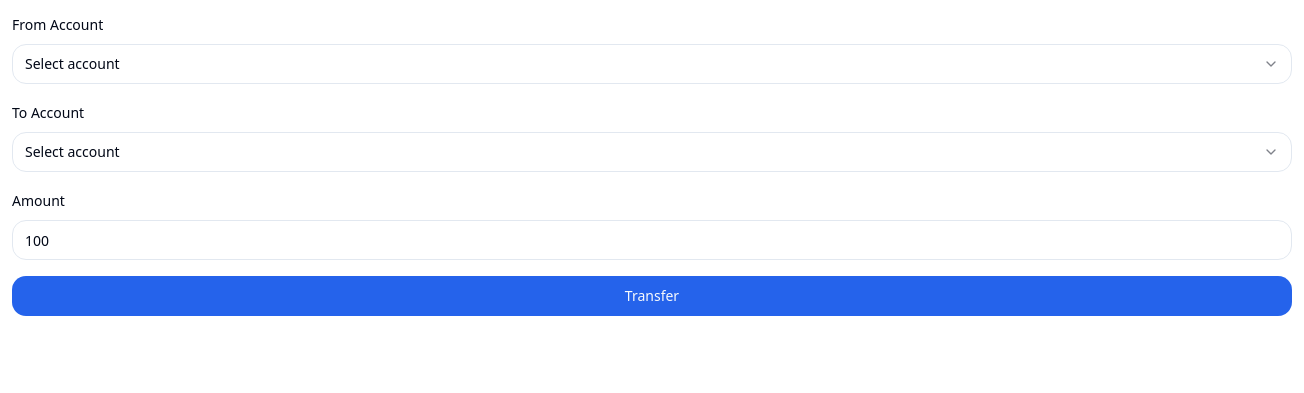
TransferFundsForm › displays error message on amount exceeding balance
Replace the text in the number field labelled "Amount" with "300". click: coordinates (652, 240)
box: [12,220,1292,260]
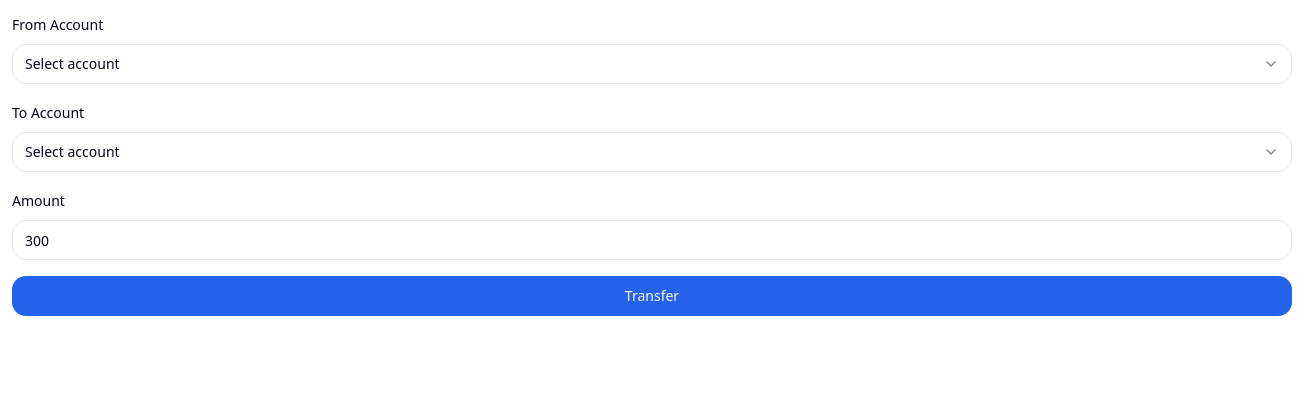
Click the dropdown with test id "from-account-select-trigger". click: coordinates (72, 64)
box: [12,44,1292,84]
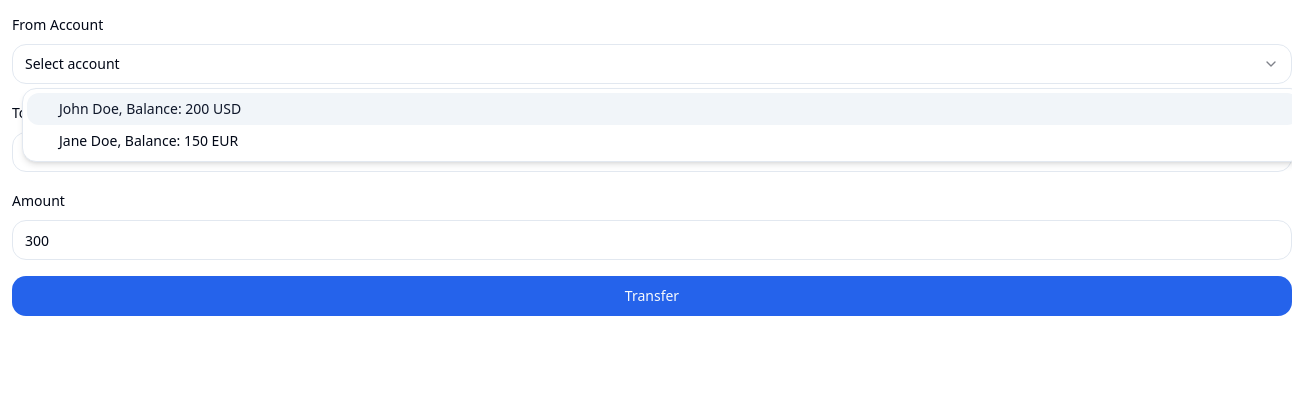
Click the option "John Doe, Balance: 200 USD". click: coordinates (150, 108)
box: [27,93,1292,125]
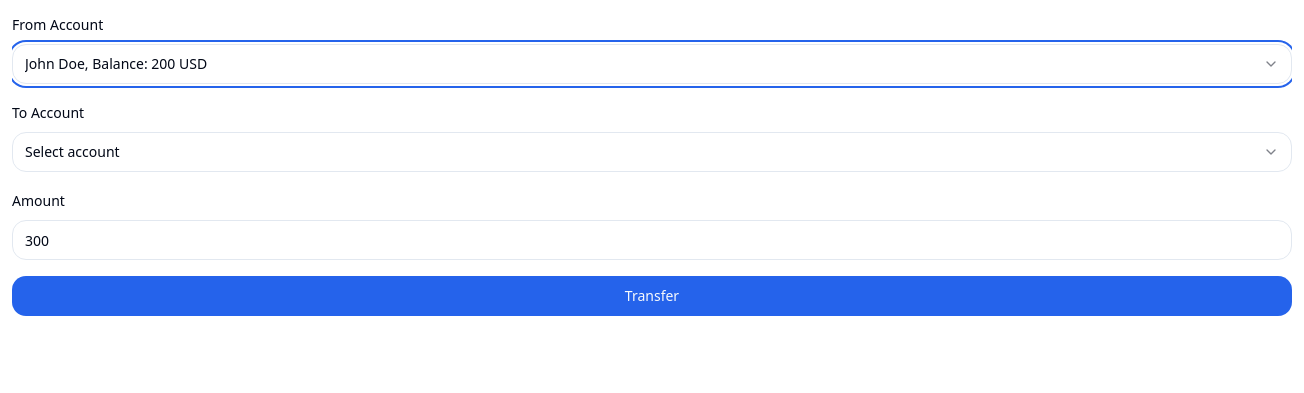
Click the dropdown with test id "to-account-select-trigger". click: coordinates (72, 152)
box: [12,132,1292,172]
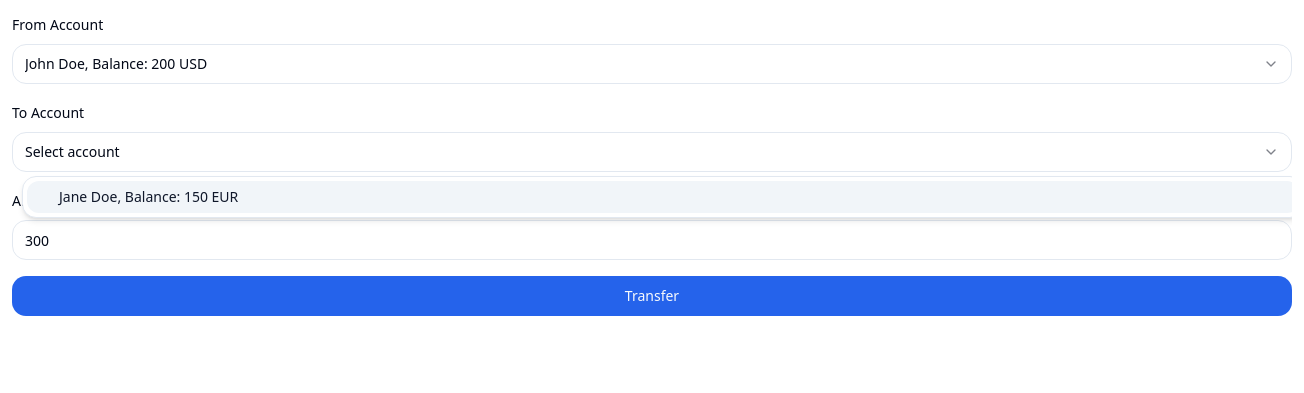
Click the option "Jane Doe, Balance: 150 EUR". click: coordinates (149, 196)
box: [27,181,1292,213]
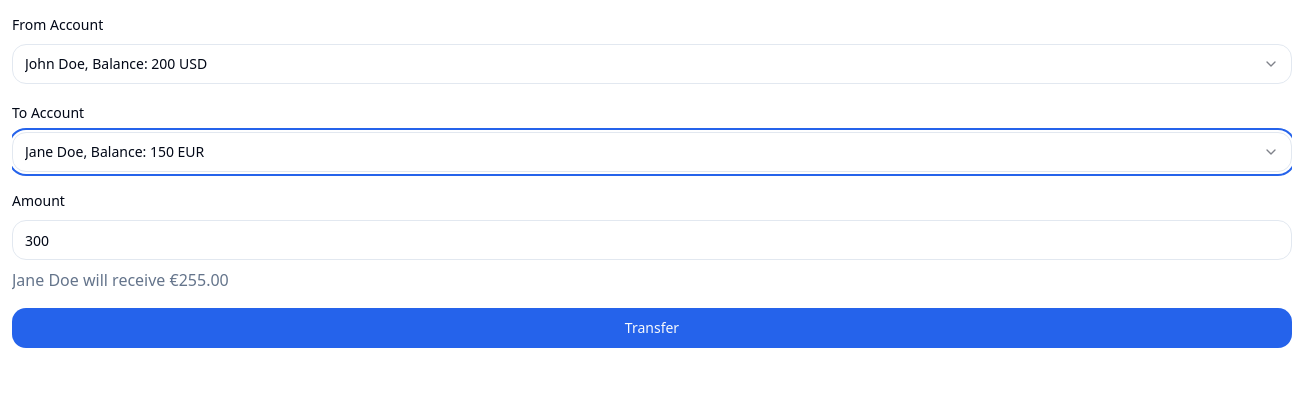
Click the button "Transfer". click: coordinates (652, 328)
box: [12,308,1292,348]
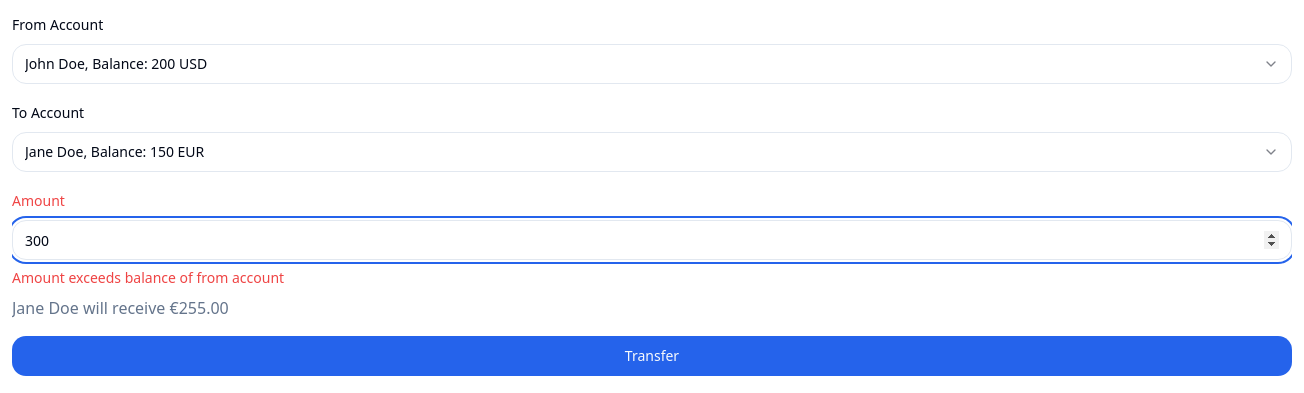
Expected: the text "Amount exceeds balance of from account" is shown, [12,268,284,287]
